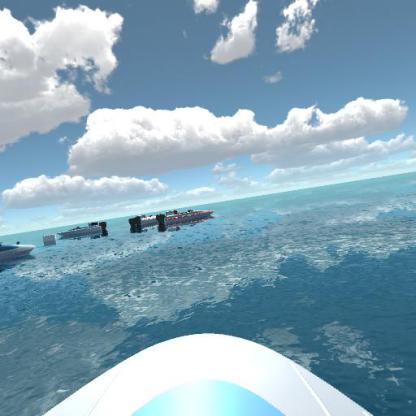usv3: (55, 219, 108, 244), (157, 208, 216, 230), (126, 209, 160, 231)
